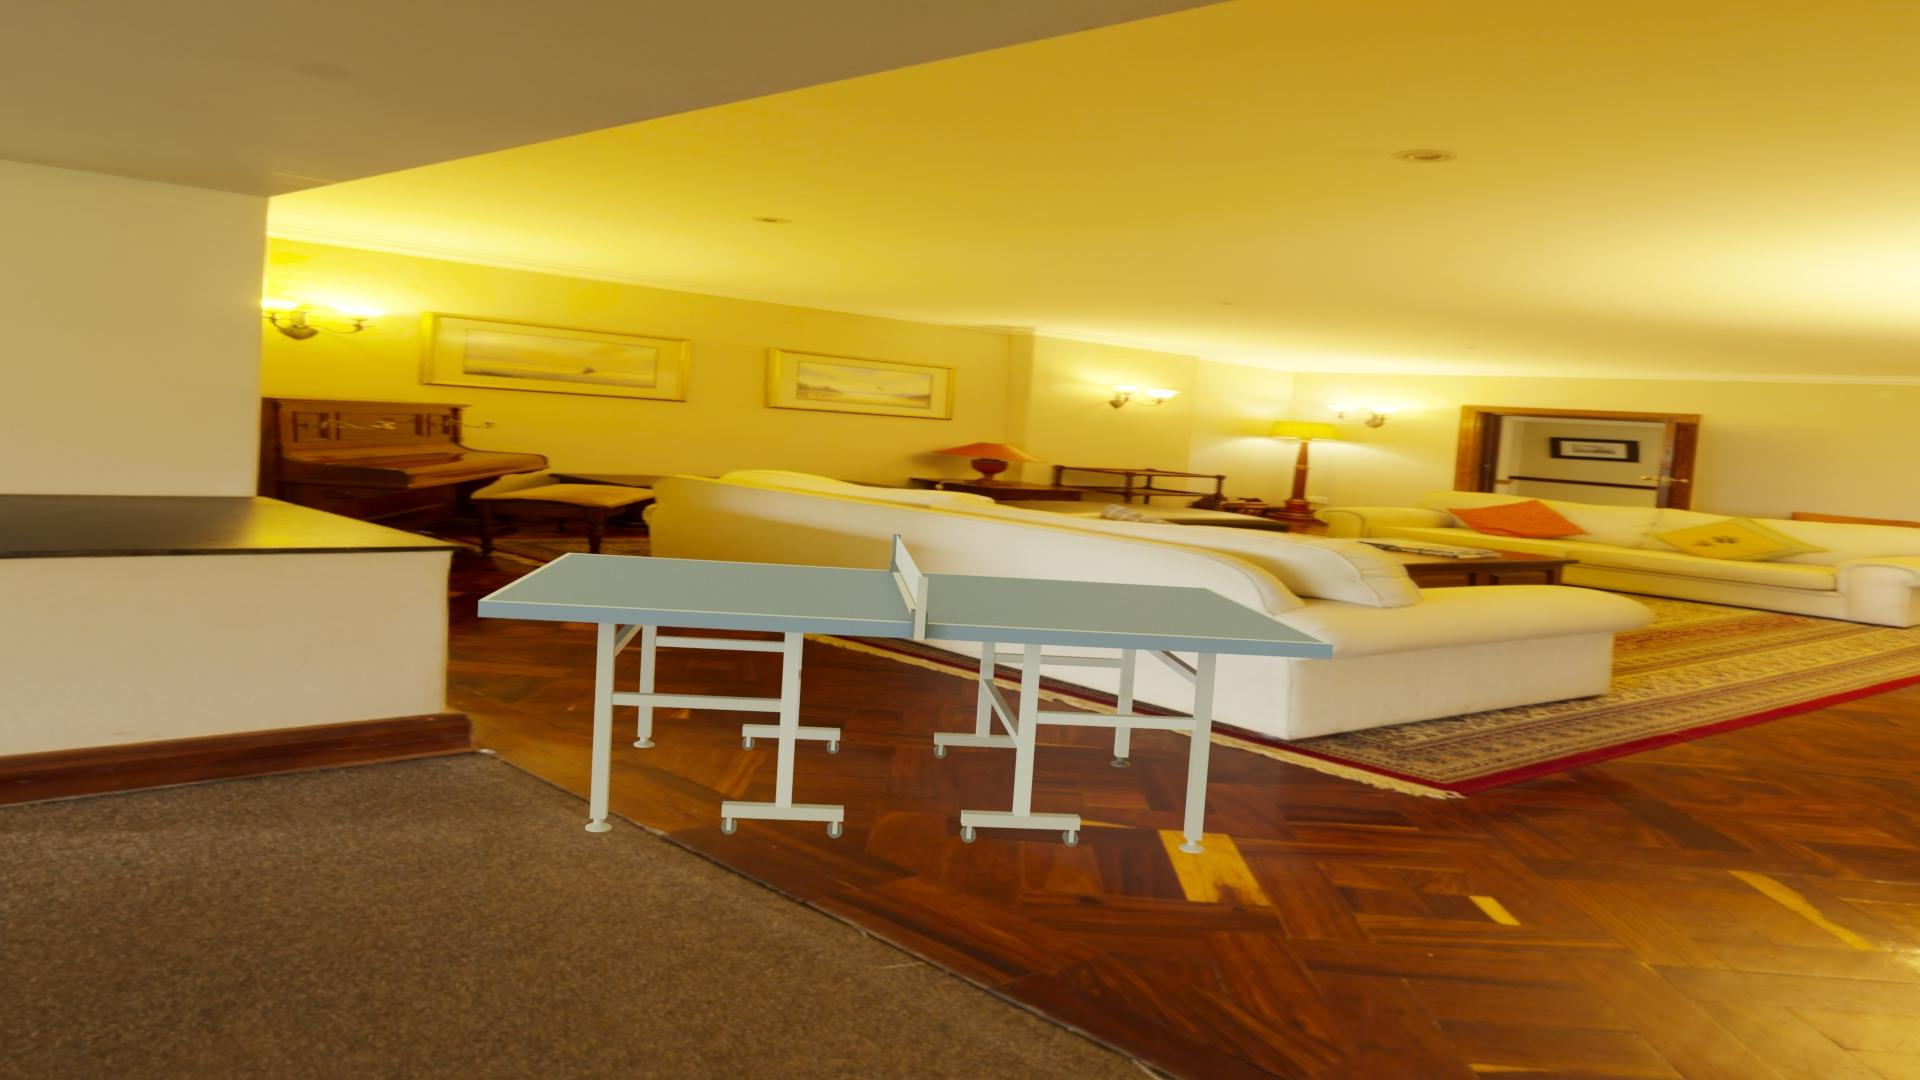table: (487, 554, 1325, 644)
